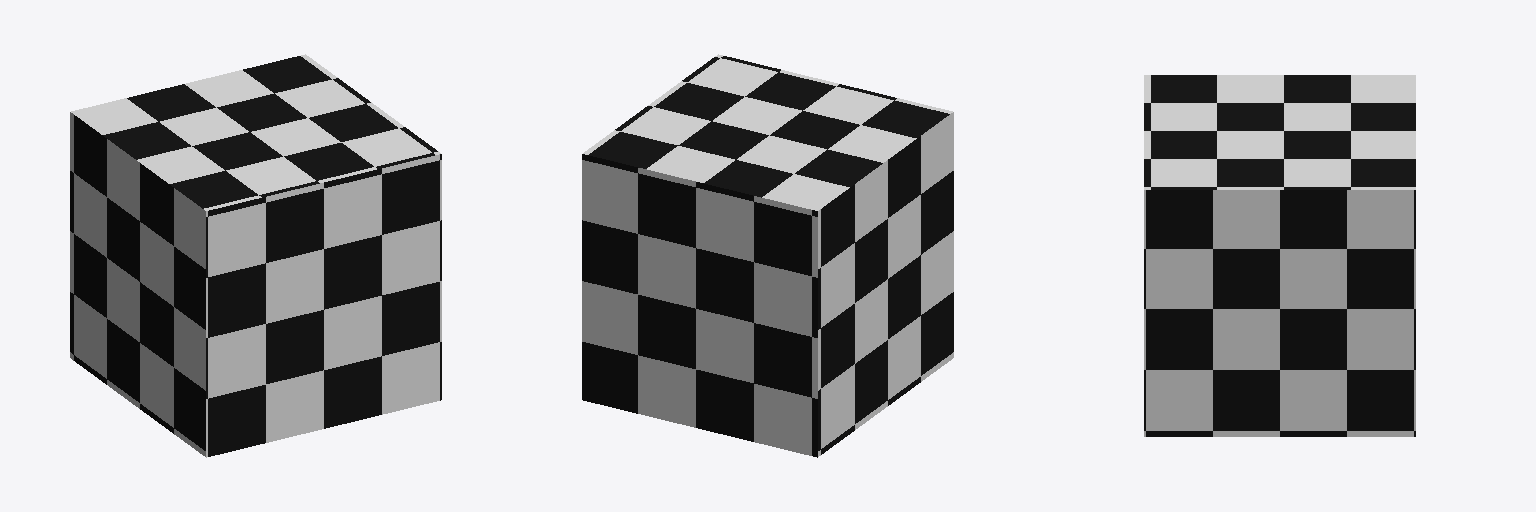
3 renders of one model, left to right at view 1: azimuth 30°, elevation 25°; view 2: azimuth 150°, elevation 25°; view 3: azimuth 270°, elevation 25°, orthographic.
Parts seen in each view (by area): view 1: Cube.008_Cube.015; view 2: Cube.008_Cube.015; view 3: Cube.008_Cube.015.
Boxes of the visible parts, <box> form: Cube.008_Cube.015: <box>70,54,441,457</box>; Cube.008_Cube.015: <box>582,54,953,457</box>; Cube.008_Cube.015: <box>1144,75,1415,436</box>.
Bounding box in the file's own units: 2 × 2 × 2.
Materials: 1 (1 with a texture image).